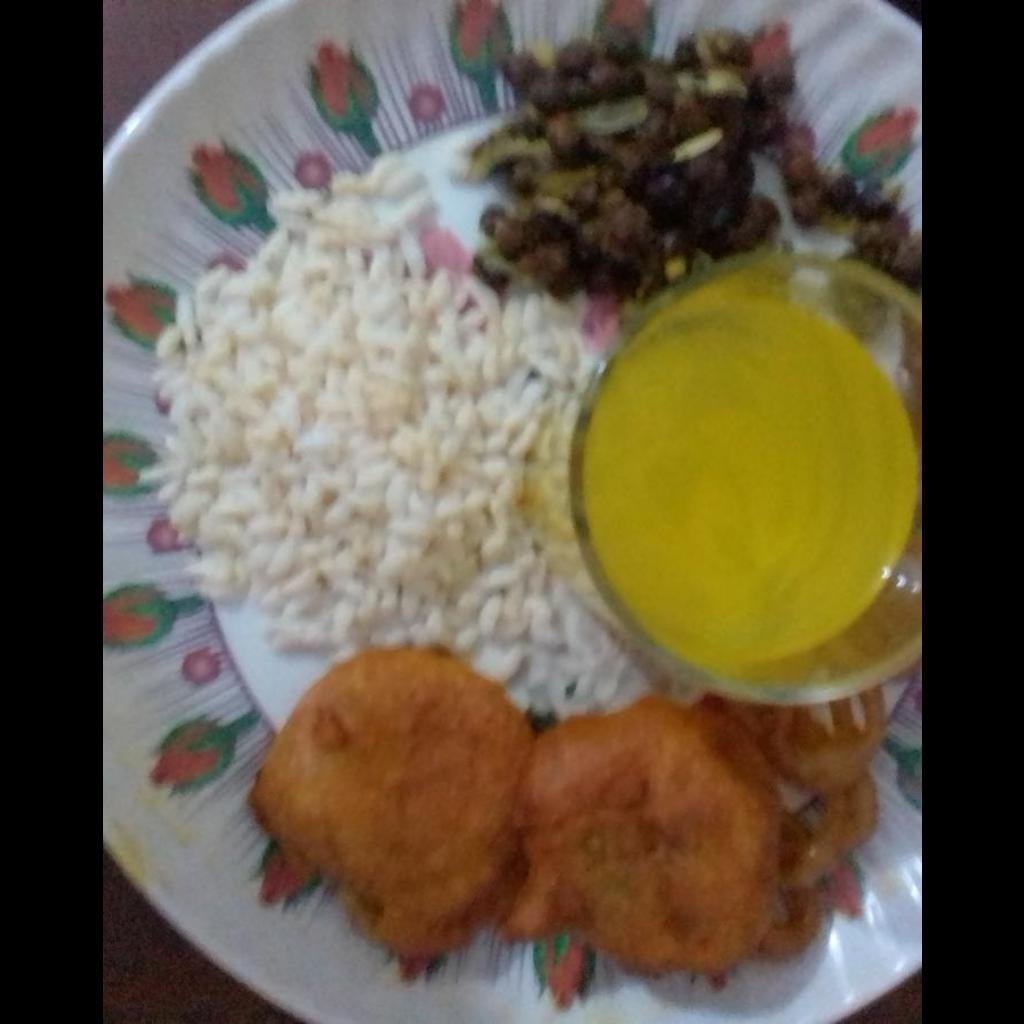chola: (477, 40, 775, 283)
chop-alu: (253, 646, 816, 985)
orange: (582, 282, 914, 666)
puffed-rice: (152, 153, 599, 688)
